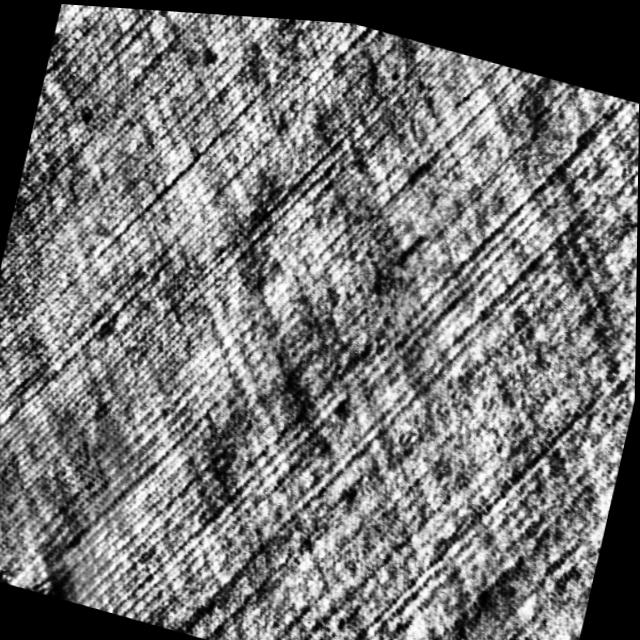Hole: (0, 545, 74, 598)
